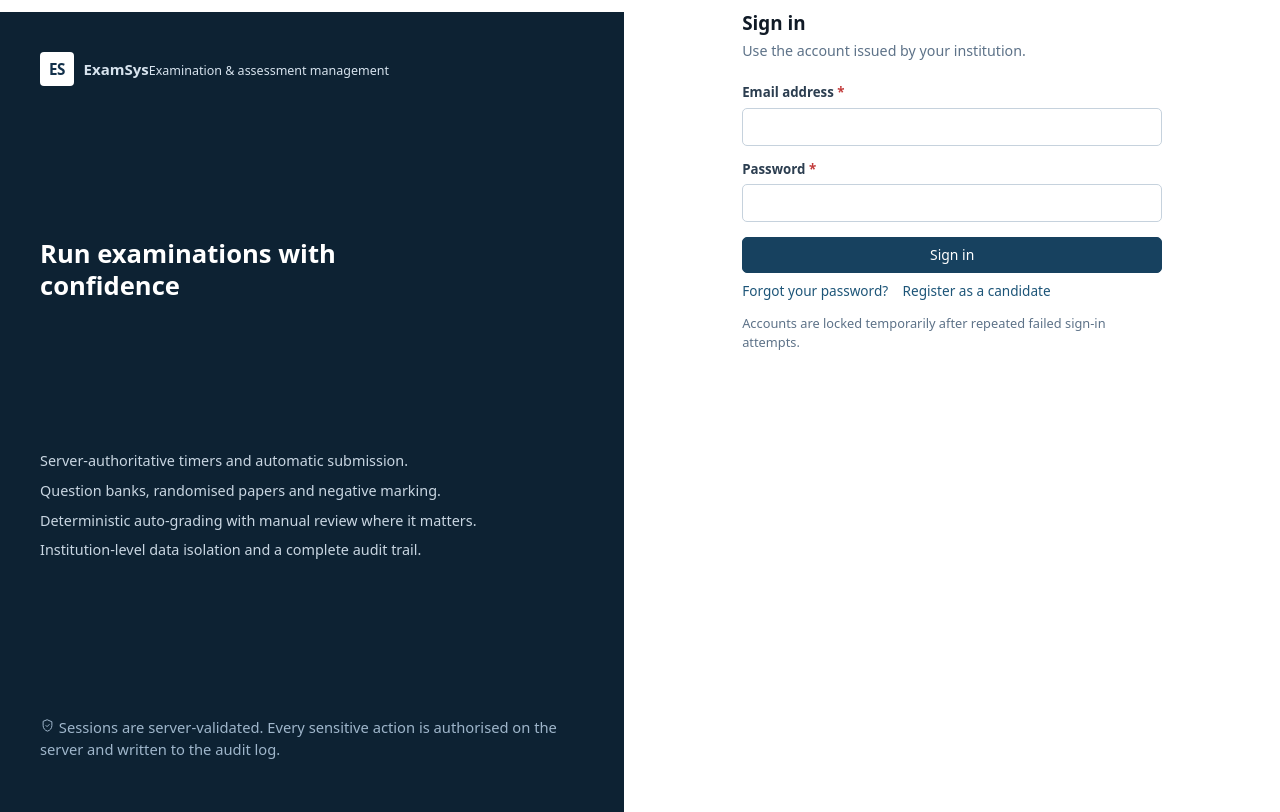
it: sign-in flow › reports invalid credentials without leaking whether the account exists
Type "ghost@nowhere.test" into the field labelled "Email address" at (952, 127), box [742,108,1162,146]
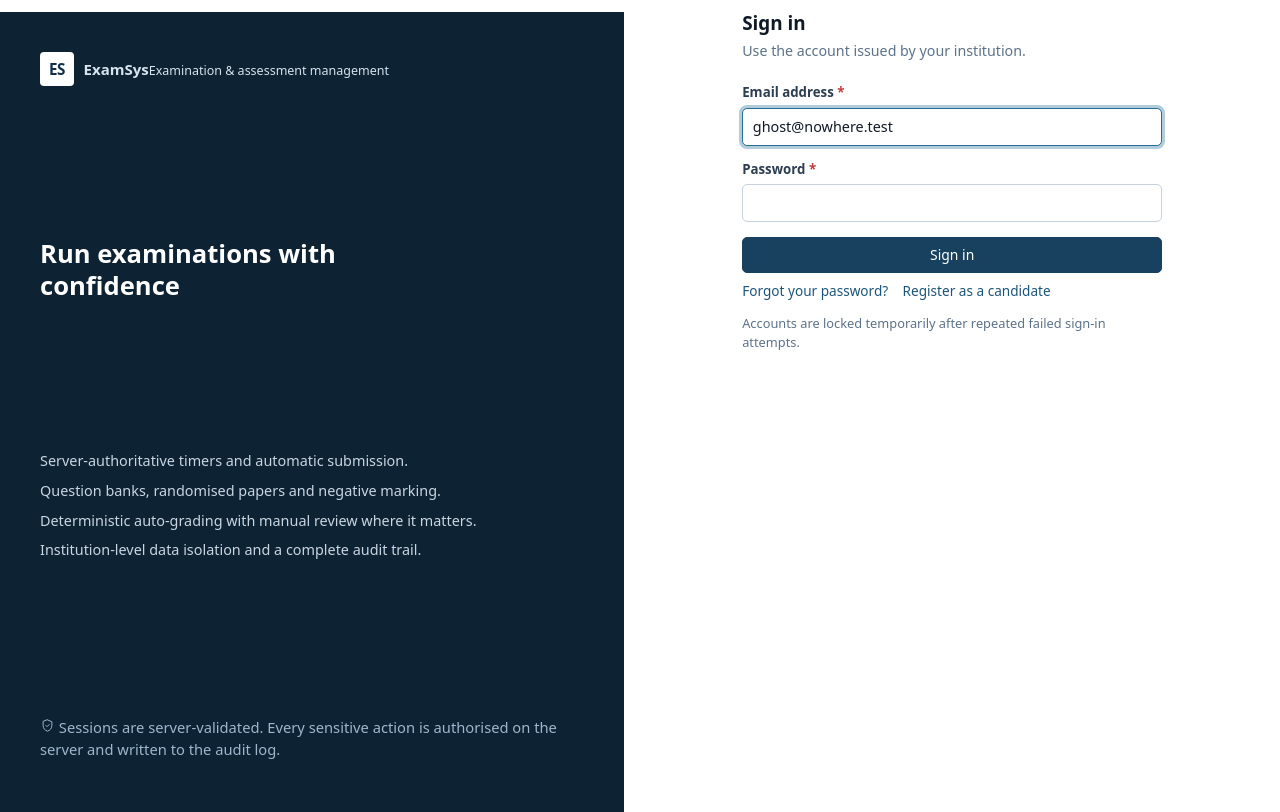
Type "Wrong-Password9" into the password field labelled "Password" at (952, 204), box [742,184,1162,222]
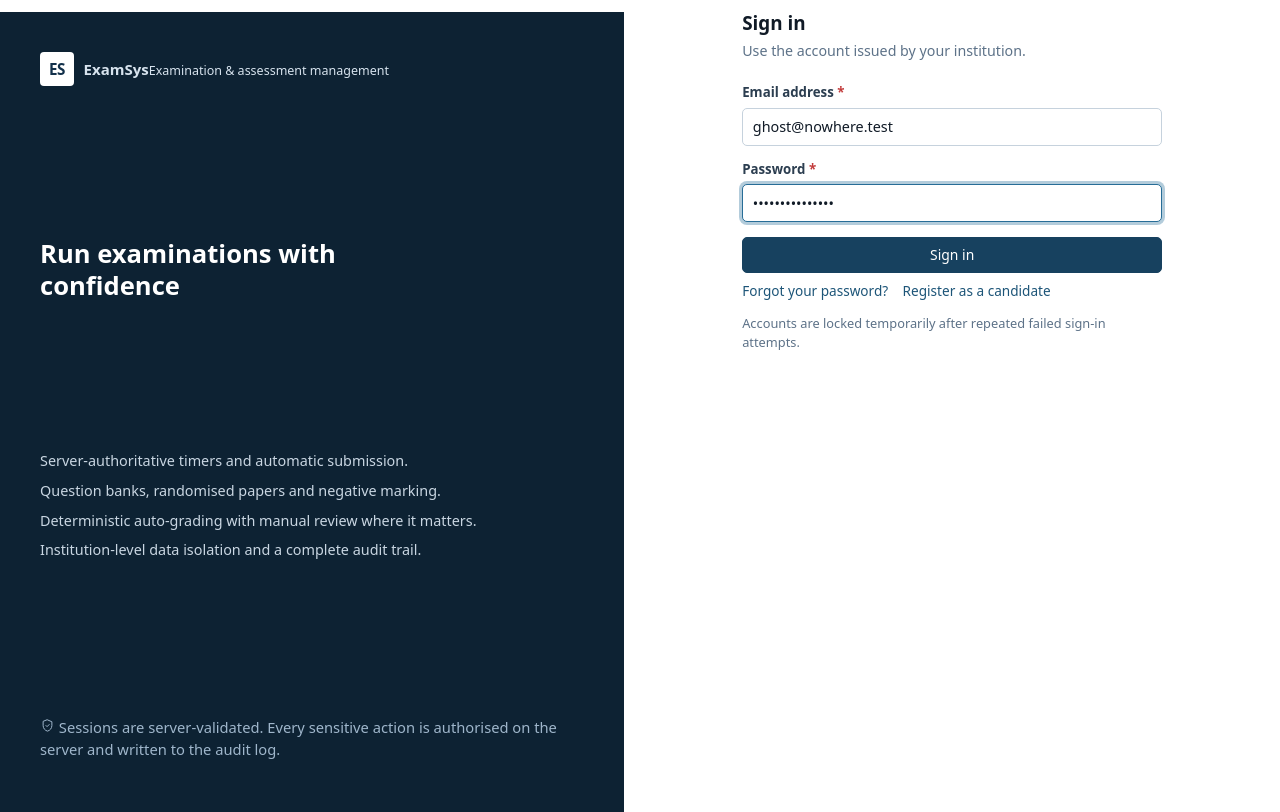
Click the button "Sign in" at (952, 255), box [742,237,1162,273]
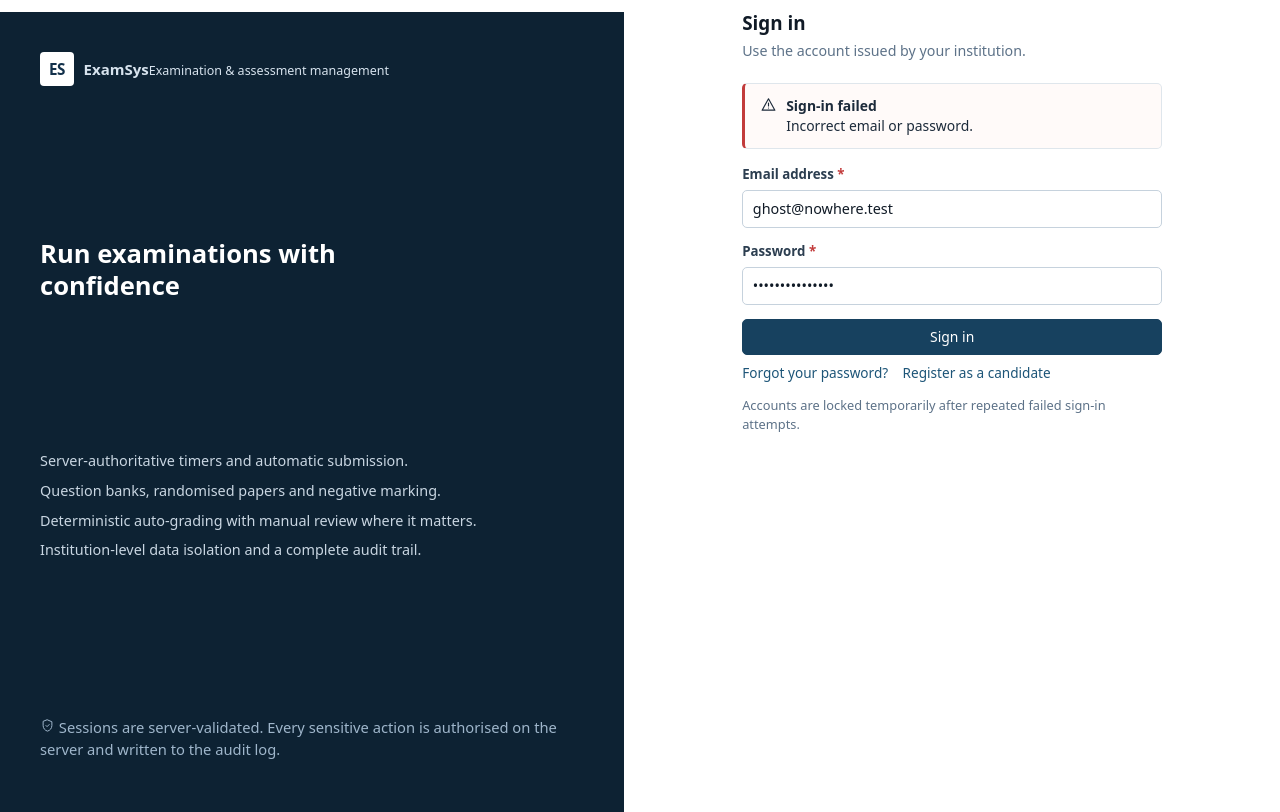
Check: the message shows "Incorrect email or password", box [786,116,973,135]
